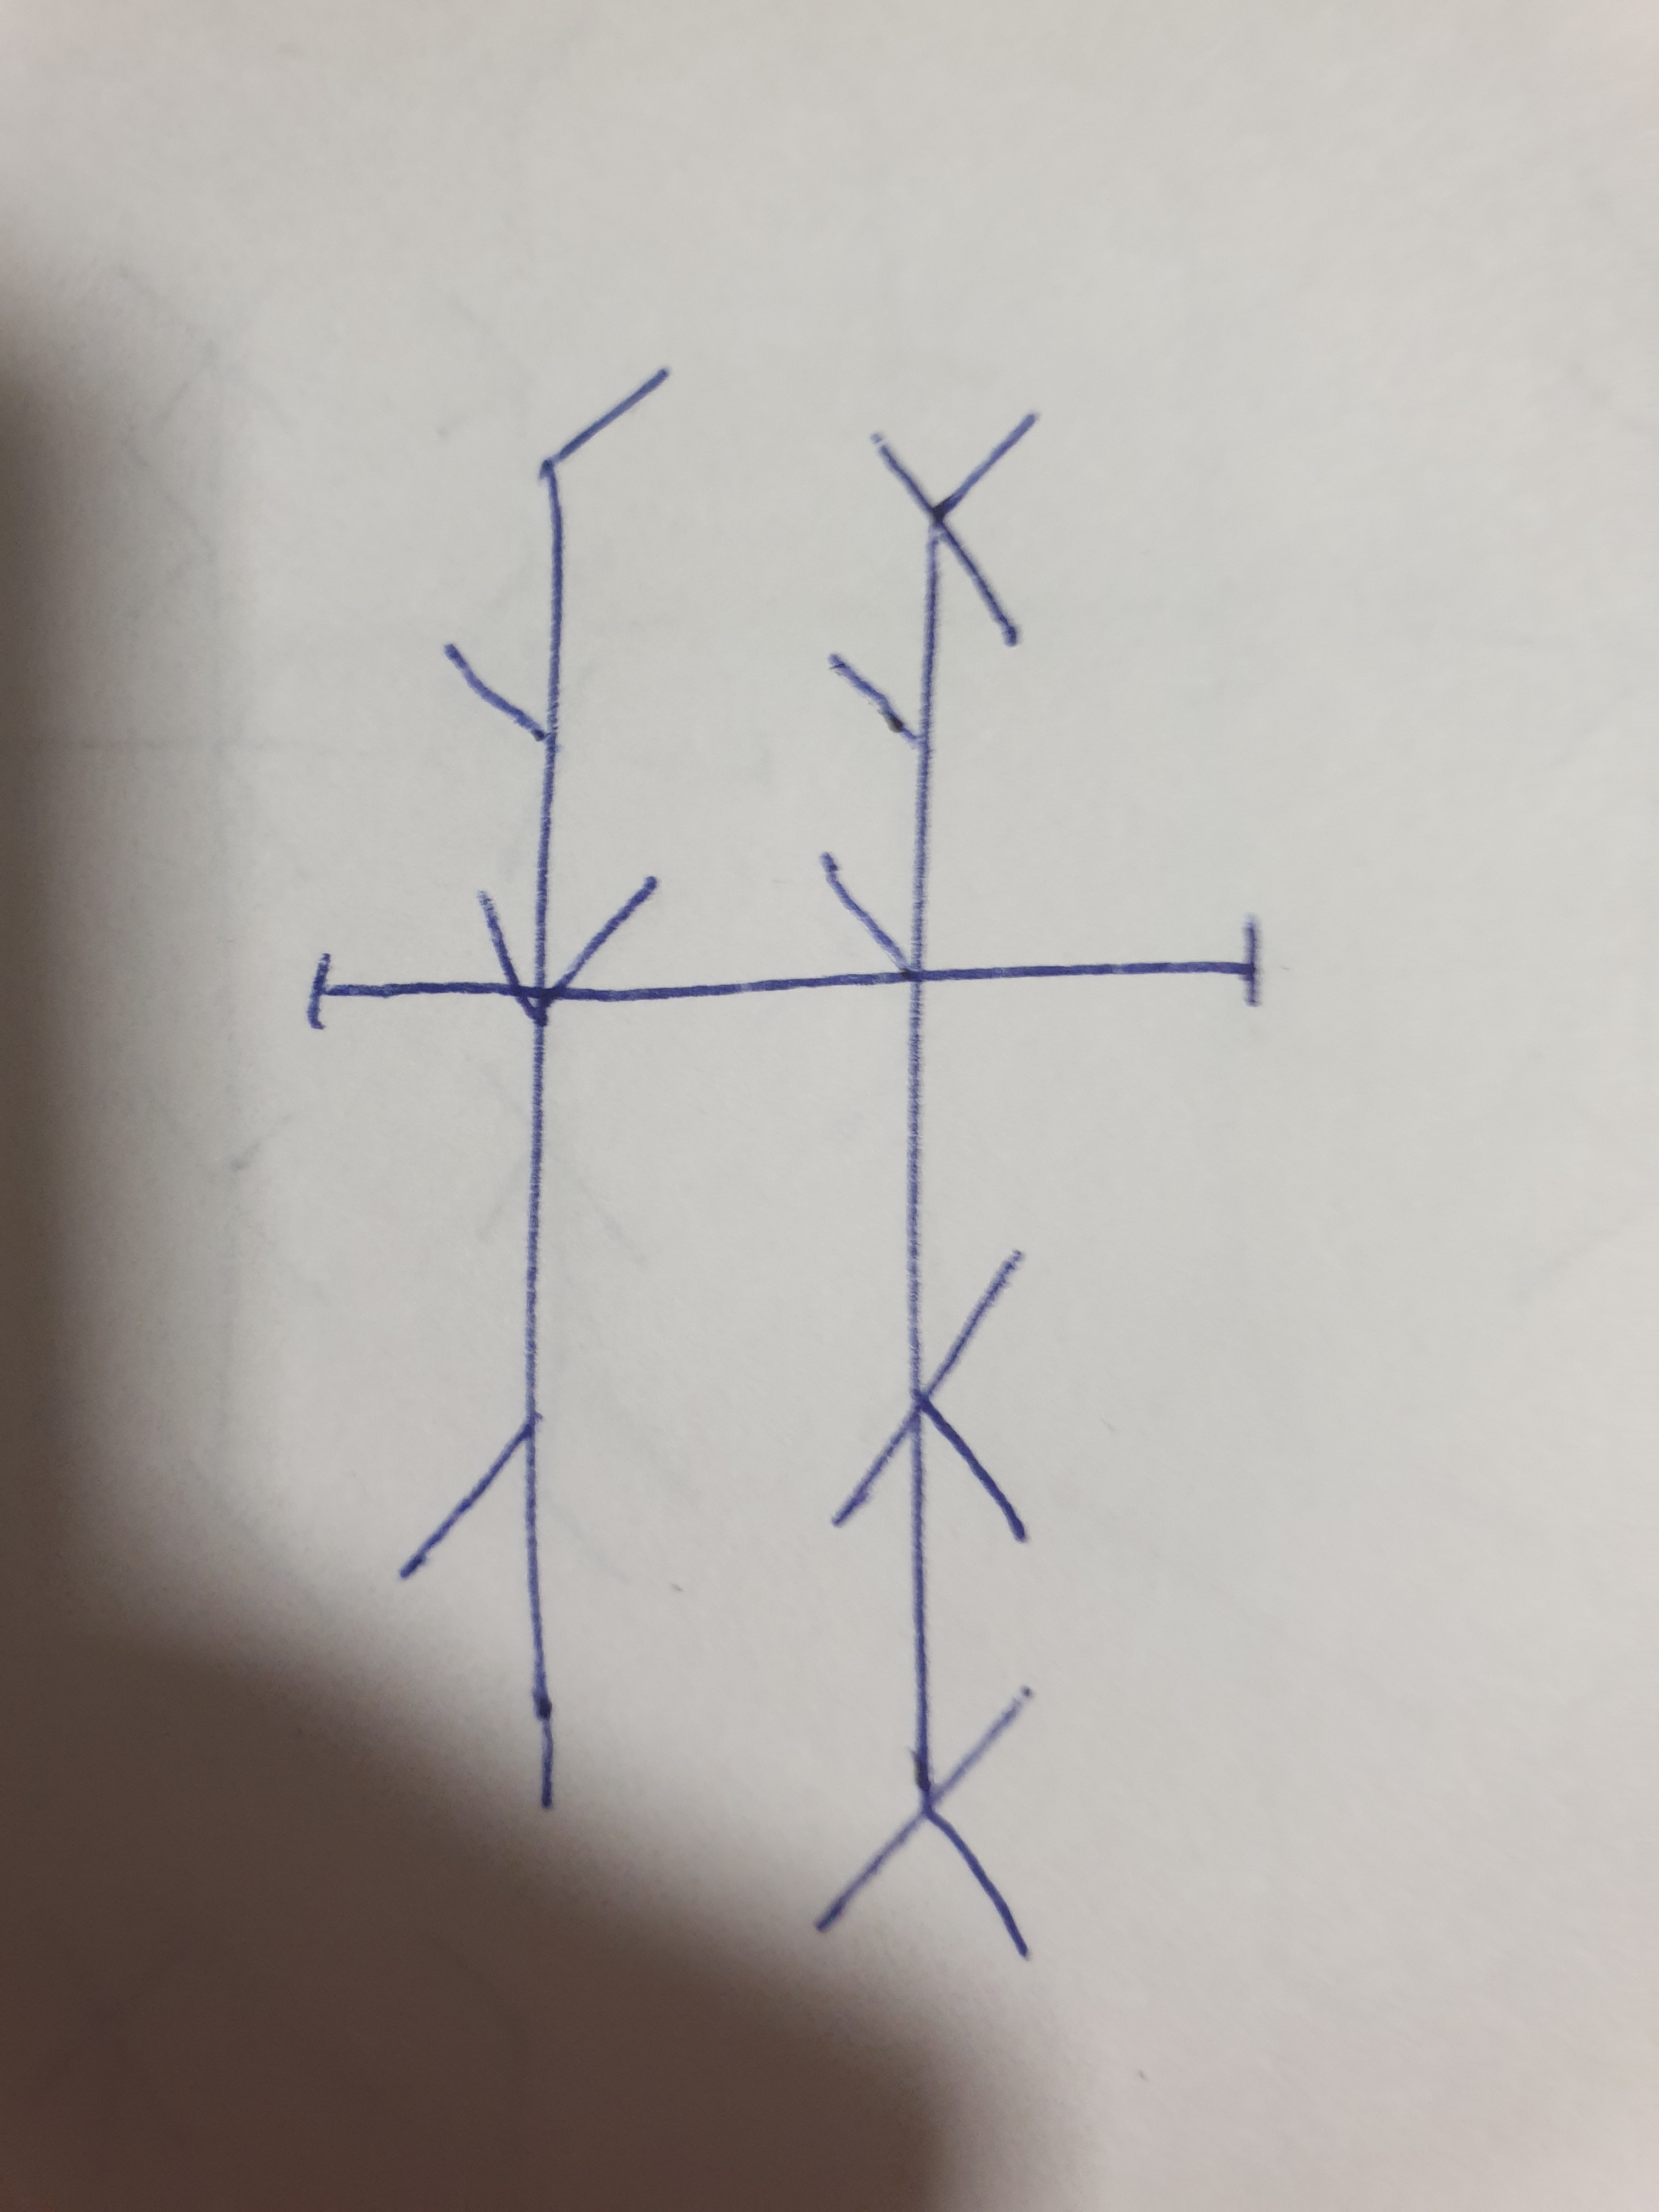Bar: (396, 364, 671, 1824), (817, 409, 1039, 1961)
Barcode: (307, 364, 1260, 1958)
End: (927, 921, 1258, 1012)
Start: (305, 954, 488, 1031)
